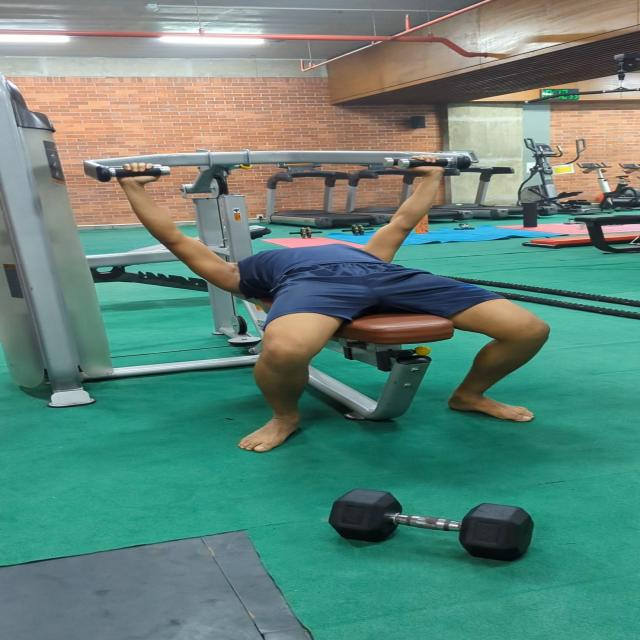Normal_BrenchPress: (91, 158, 587, 459)
